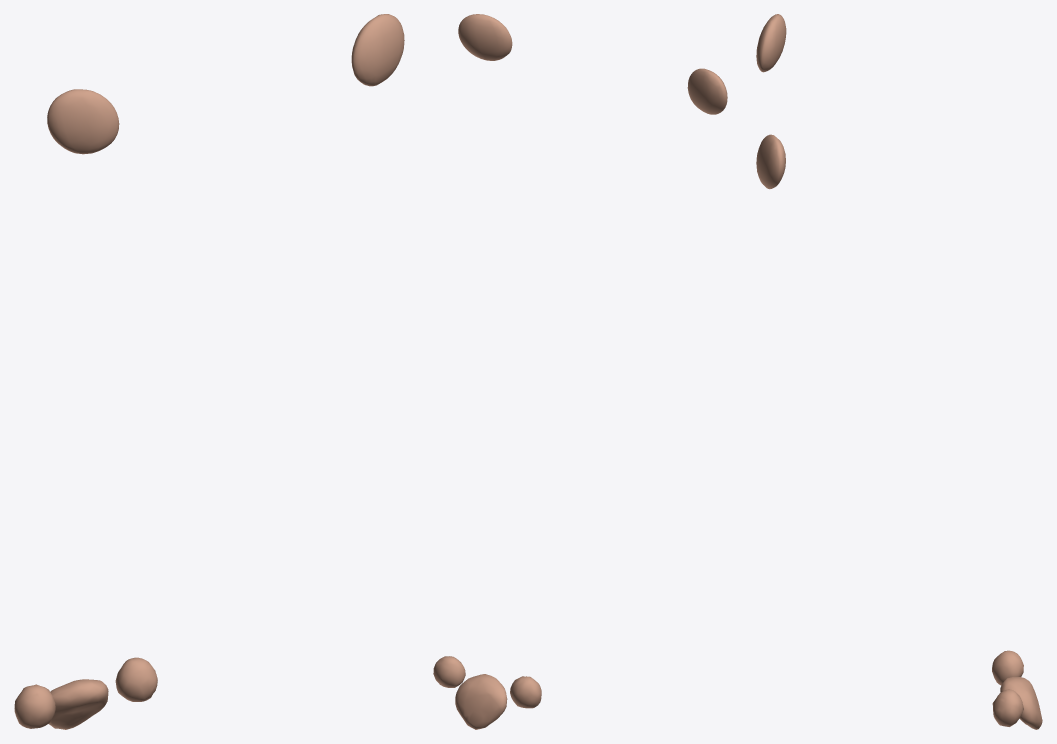
Rendered from pediatric_child_10y_female.reproductive.LOD0.glb.
3 renders of one model, left to right at view 1: azimuth 30°, elevation 25°; view 2: azimuth 150°, elevation 25°; view 3: azimuth 270°, elevation 25°, orthographic. The views are drawn at different scales.
Parts seen in each view (by area): view 1: PEDIATRIC.CHILD_10Y.FEMALE.REPRODUCTIVE.BREAST_ADIPOSE_TISSU (×2), PEDIATRIC.CHILD_10Y.FEMALE.REPRODUCTIVE.UTERUS, PEDIATRIC.CHILD_10Y.FEMALE.REPRODUCTIVE.OVARY.L, PEDIATRIC.CHILD_10Y.FEMALE.REPRODUCTIVE.OVARY.R; view 2: PEDIATRIC.CHILD_10Y.FEMALE.REPRODUCTIVE.BREAST_ADIPOSE_TISSU (×2), PEDIATRIC.CHILD_10Y.FEMALE.REPRODUCTIVE.UTERUS, PEDIATRIC.CHILD_10Y.FEMALE.REPRODUCTIVE.OVARY.R, PEDIATRIC.CHILD_10Y.FEMALE.REPRODUCTIVE.OVARY.L; view 3: PEDIATRIC.CHILD_10Y.FEMALE.REPRODUCTIVE.BREAST_ADIPOSE_TISSU (×2), PEDIATRIC.CHILD_10Y.FEMALE.REPRODUCTIVE.UTERUS, PEDIATRIC.CHILD_10Y.FEMALE.REPRODUCTIVE.OVARY.L, PEDIATRIC.CHILD_10Y.FEMALE.REPRODUCTIVE.OVARY.R.
Boxes of the visible parts, x1,y1,x2,y2 form: PEDIATRIC.CHILD_10Y.FEMALE.REPRODUCTIVE.BREAST_ADIPOSE_TISSU (×2): [47, 14, 404, 154]; PEDIATRIC.CHILD_10Y.FEMALE.REPRODUCTIVE.UTERUS: [48, 679, 108, 729]; PEDIATRIC.CHILD_10Y.FEMALE.REPRODUCTIVE.OVARY.L: [115, 657, 157, 701]; PEDIATRIC.CHILD_10Y.FEMALE.REPRODUCTIVE.OVARY.R: [14, 684, 55, 728]; PEDIATRIC.CHILD_10Y.FEMALE.REPRODUCTIVE.BREAST_ADIPOSE_TISSU (×2): [458, 14, 727, 114]; PEDIATRIC.CHILD_10Y.FEMALE.REPRODUCTIVE.UTERUS: [455, 674, 507, 729]; PEDIATRIC.CHILD_10Y.FEMALE.REPRODUCTIVE.OVARY.R: [510, 676, 541, 708]; PEDIATRIC.CHILD_10Y.FEMALE.REPRODUCTIVE.OVARY.L: [433, 656, 465, 687]; PEDIATRIC.CHILD_10Y.FEMALE.REPRODUCTIVE.BREAST_ADIPOSE_TISSU (×2): [756, 14, 786, 189]; PEDIATRIC.CHILD_10Y.FEMALE.REPRODUCTIVE.UTERUS: [1000, 677, 1042, 729]; PEDIATRIC.CHILD_10Y.FEMALE.REPRODUCTIVE.OVARY.L: [992, 689, 1023, 726]; PEDIATRIC.CHILD_10Y.FEMALE.REPRODUCTIVE.OVARY.R: [992, 650, 1023, 685].
Size of the model in its own units: 0.1491 by 0.3177 by 0.1265.
